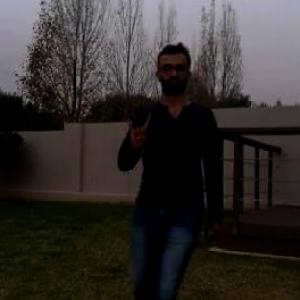takeoff-hand: (117, 106, 153, 152)
